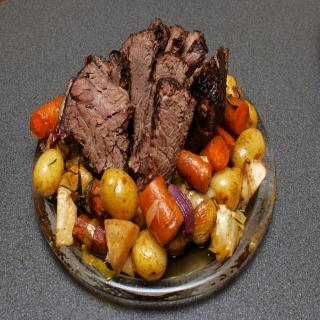Potato: (124, 232, 168, 278)
